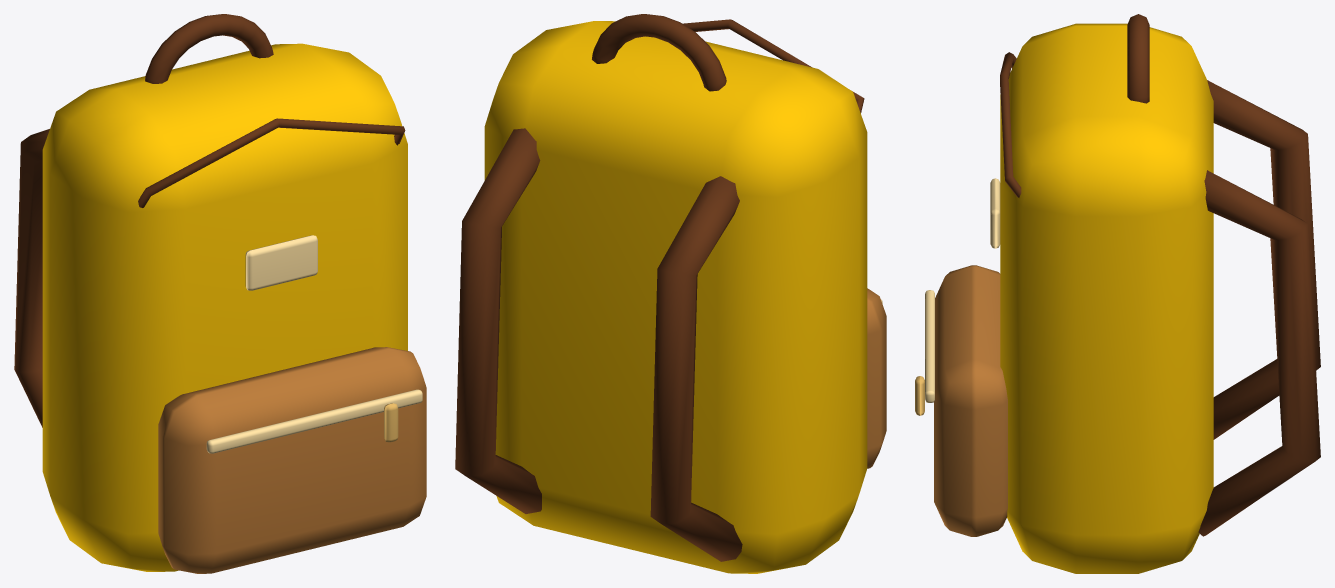
File: 07_Backpack.glb
The picture shows the model from 3 angles, left to right: view 1: azimuth 30°, elevation 25°; view 2: azimuth 150°, elevation 25°; view 3: azimuth 270°, elevation 25°; orthographic projection. The views are drawn at different scales.
Parts seen in each view (by area): view 1: 07_Backpack_EXPORT; view 2: 07_Backpack_EXPORT; view 3: 07_Backpack_EXPORT.
Part boxes in pixels (x1,y1,x2,y2): 07_Backpack_EXPORT: (14, 14, 426, 573); 07_Backpack_EXPORT: (455, 14, 886, 573); 07_Backpack_EXPORT: (915, 14, 1320, 573).
Bounding box in the file's own units: 0.58 × 0.888 × 0.6467.
